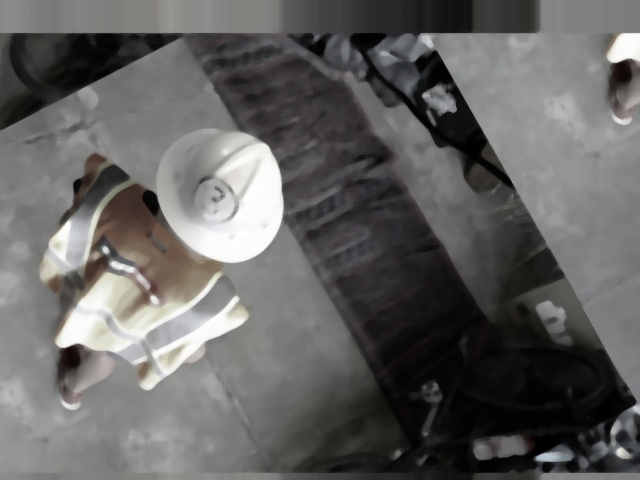three: (182, 169, 247, 234)
